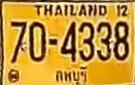0: (28, 21, 45, 61)
3: (78, 21, 93, 61), (96, 21, 111, 60)
4: (60, 20, 75, 60)
7: (10, 20, 26, 63)
8: (113, 20, 128, 59)
LRI: (53, 65, 88, 85)
